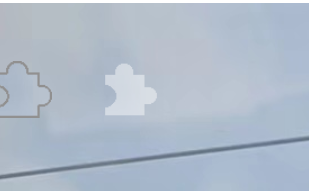target: (100, 60, 158, 116)
